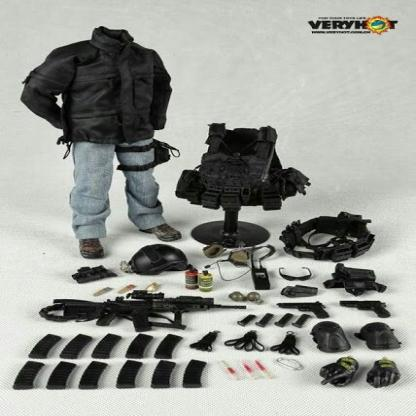Grenade: (184, 264, 198, 289), (199, 269, 214, 292), (247, 288, 265, 304), (230, 290, 246, 302)
Gun: (40, 289, 247, 333)
Pistol: (340, 299, 393, 319), (275, 300, 330, 318)
